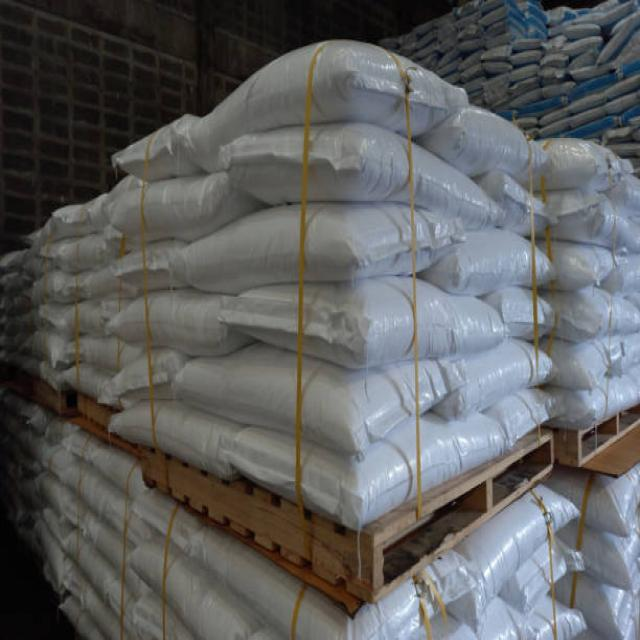Wooden-Pallets: (134, 417, 567, 606)
